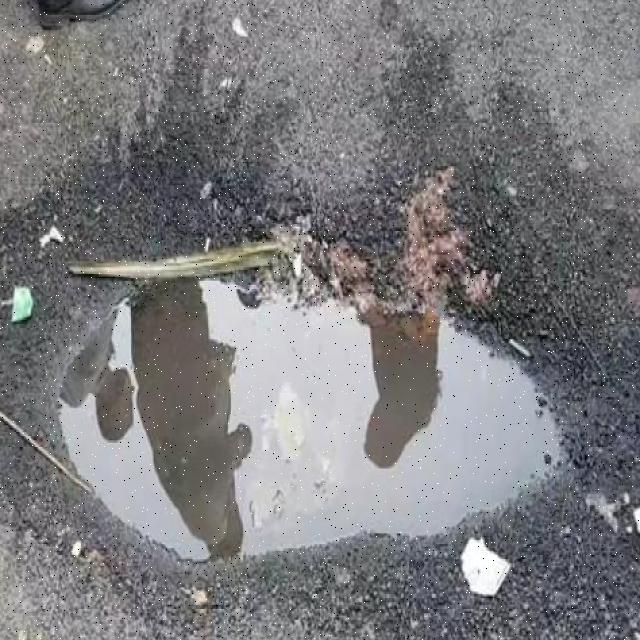pothole: (51, 274, 565, 566)
